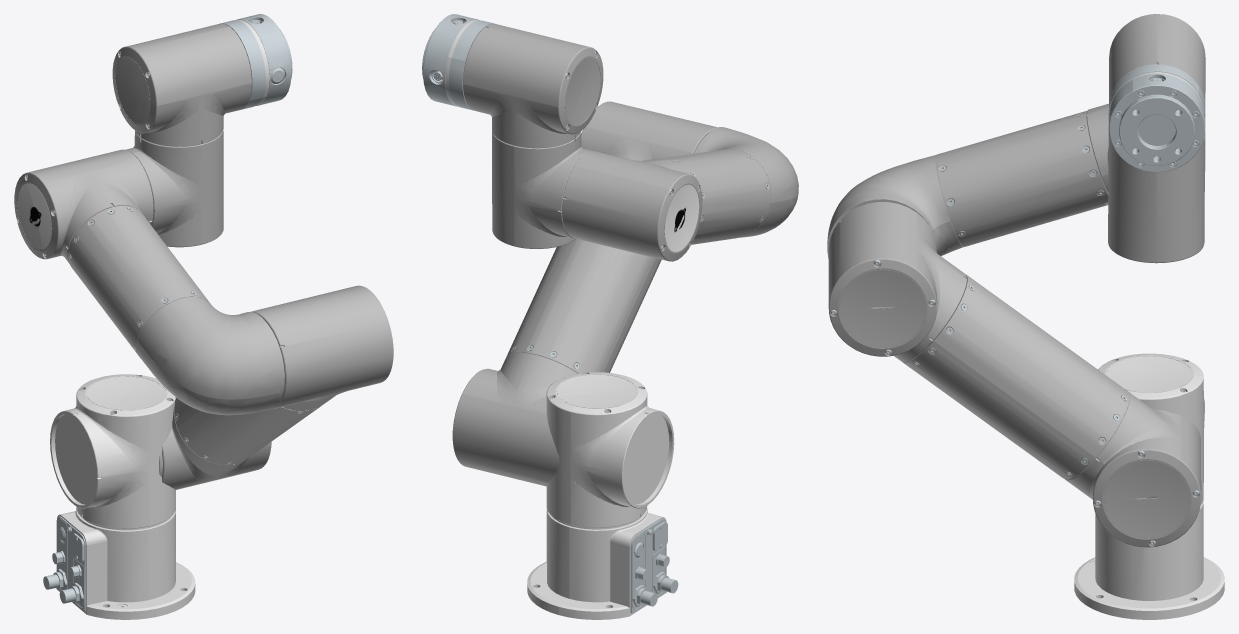
The picture shows the model from 3 angles, left to right: view 1: azimuth 30°, elevation 25°; view 2: azimuth 150°, elevation 25°; view 3: azimuth 270°, elevation 25°; orthographic projection. The views are drawn at different scales.
Parts seen in each view (by area): view 1: J2_Shoulder, J5_Wrist_Pitch, RD37-FR3C-V6.0-4, J1_Base, J3_Elbow, Link_Forearm, Wrist_Roll, J4_Wrist_Roll, Link_UpperArm, J6_Flange, 物体, J4_Wrist_Roll.002; view 2: J2_Shoulder, J5_Wrist_Pitch, Link_UpperArm, J1_Base, 物体, J4_Wrist_Roll, Wrist_Roll, Link_Forearm, J3_Elbow, J6_Flange, RD37-FR3C-V6.0-4, J4_Wrist_Roll.002; view 3: Link_UpperArm, J3_Elbow, Link_Forearm, 物体, J1_Base, Wrist_Roll, J6_Flange, J2_Shoulder, RD37-FR3C-V6.0-4, J5_Wrist_Pitch, J4_Wrist_Roll.
Boxes of the visible parts, x1,y1,x2,y2 form: J2_Shoulder: [50, 374, 175, 530]; J5_Wrist_Pitch: [112, 23, 251, 146]; RD37-FR3C-V6.0-4: [136, 297, 284, 415]; J1_Base: [43, 509, 195, 619]; J3_Elbow: [250, 285, 393, 410]; Link_Forearm: [67, 205, 209, 355]; Wrist_Roll: [125, 130, 223, 247]; J4_Wrist_Roll: [14, 149, 153, 263]; Link_UpperArm: [174, 398, 323, 464]; J6_Flange: [220, 14, 292, 109]; 物体: [159, 397, 271, 489]; J4_Wrist_Roll.002: [17, 183, 51, 249]; J2_Shoulder: [546, 372, 674, 529]; J5_Wrist_Pitch: [463, 23, 603, 148]; Link_UpperArm: [506, 239, 661, 373]; J1_Base: [527, 507, 678, 619]; 物体: [452, 352, 577, 486]; J4_Wrist_Roll: [562, 151, 702, 261]; Wrist_Roll: [492, 131, 591, 248]; Link_Forearm: [662, 149, 770, 244]; J3_Elbow: [581, 101, 717, 160]; J6_Flange: [422, 14, 495, 110]; RD37-FR3C-V6.0-4: [695, 127, 798, 237]; J4_Wrist_Roll.002: [664, 184, 699, 251]; Link_UpperArm: [902, 274, 1129, 479]; J3_Elbow: [828, 202, 966, 362]; Link_Forearm: [936, 111, 1108, 246]; 物体: [1065, 392, 1201, 547]; J1_Base: [1074, 500, 1224, 619]; Wrist_Roll: [1108, 135, 1205, 263]; J6_Flange: [1108, 64, 1205, 172]; J2_Shoulder: [1098, 353, 1204, 504]; RD37-FR3C-V6.0-4: [827, 154, 963, 258]; J5_Wrist_Pitch: [1108, 14, 1205, 137]; J4_Wrist_Roll: [1086, 103, 1205, 192].
Bounding box in the file's own units: 254 × 540 × 335.
6 materials, 1 textured.
